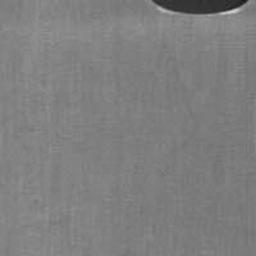Punching: (151, 0, 248, 17)
